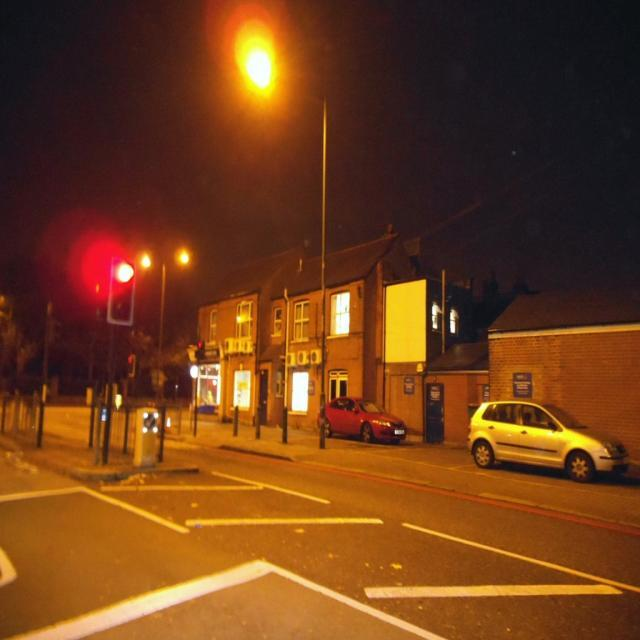traffic light: (110, 261, 133, 320)
